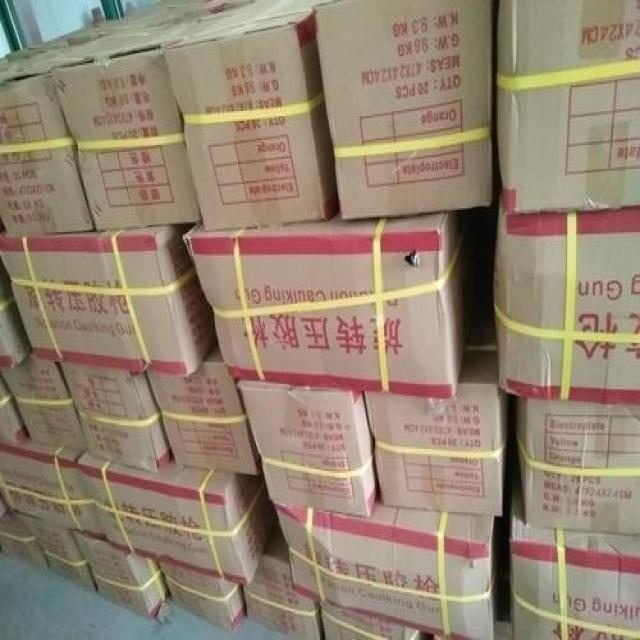box: (180, 208, 470, 401), (52, 0, 250, 232), (161, 0, 339, 232), (314, 0, 493, 222), (0, 225, 214, 375), (490, 0, 640, 213), (274, 500, 495, 640), (0, 15, 137, 237), (493, 198, 640, 403), (77, 454, 275, 587), (365, 348, 509, 519), (234, 381, 381, 515), (511, 498, 640, 640), (517, 396, 640, 534), (146, 343, 264, 474), (58, 360, 173, 473), (242, 512, 326, 638), (0, 440, 104, 539), (70, 531, 170, 616), (1, 355, 86, 452), (156, 558, 246, 631), (22, 517, 95, 591), (319, 604, 422, 640), (0, 256, 29, 369), (0, 510, 47, 568), (0, 374, 29, 445)
